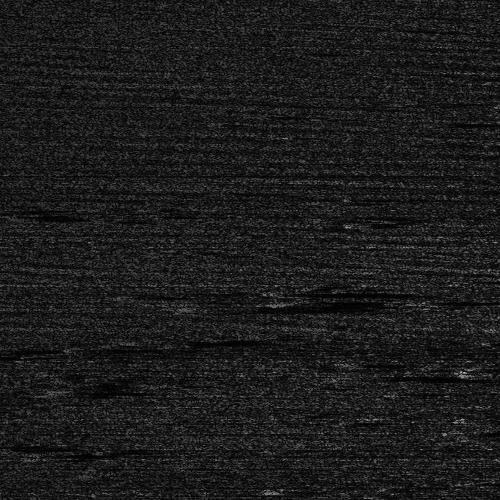object: (315, 371, 420, 382), (185, 302, 268, 311), (27, 387, 80, 396), (255, 287, 318, 294), (461, 368, 500, 379), (287, 299, 340, 304), (460, 298, 481, 301)
shadow: (227, 302, 402, 311), (368, 371, 500, 382), (287, 287, 417, 294), (53, 387, 120, 396), (314, 299, 420, 304), (488, 368, 500, 379), (471, 298, 500, 301)
